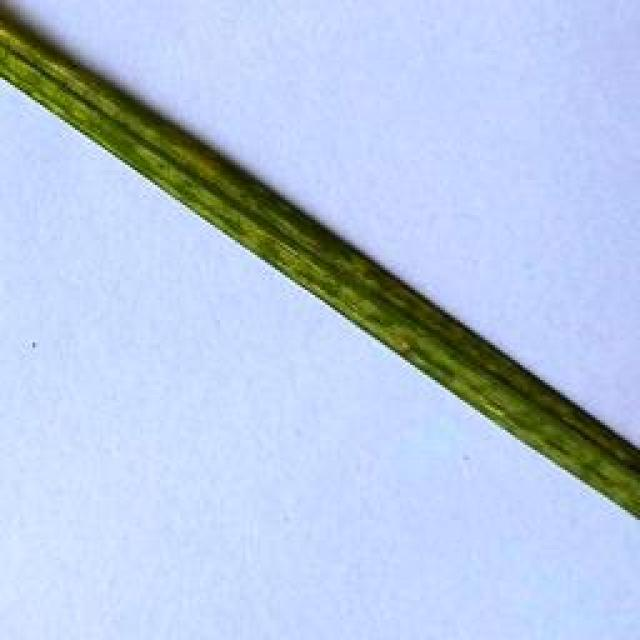Healthy-Plant: (0, 22, 640, 520)
